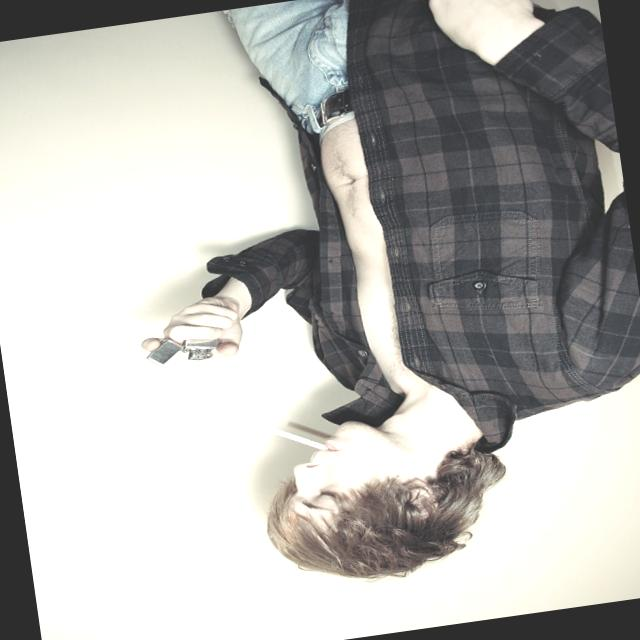cigarette: (262, 413, 340, 458)
